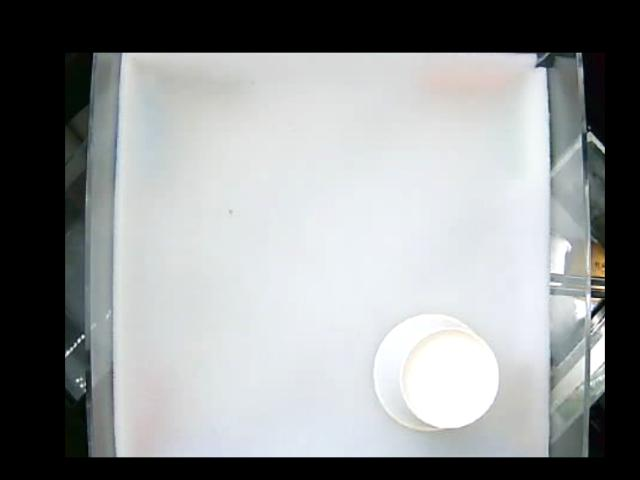Cup: (370, 313, 501, 432)
